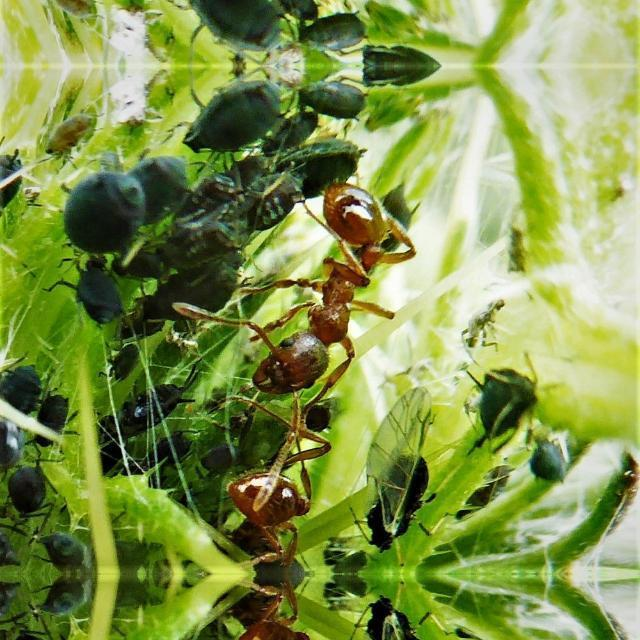Myrmica: (230, 160, 440, 424), (209, 416, 343, 566), (209, 580, 343, 640)
